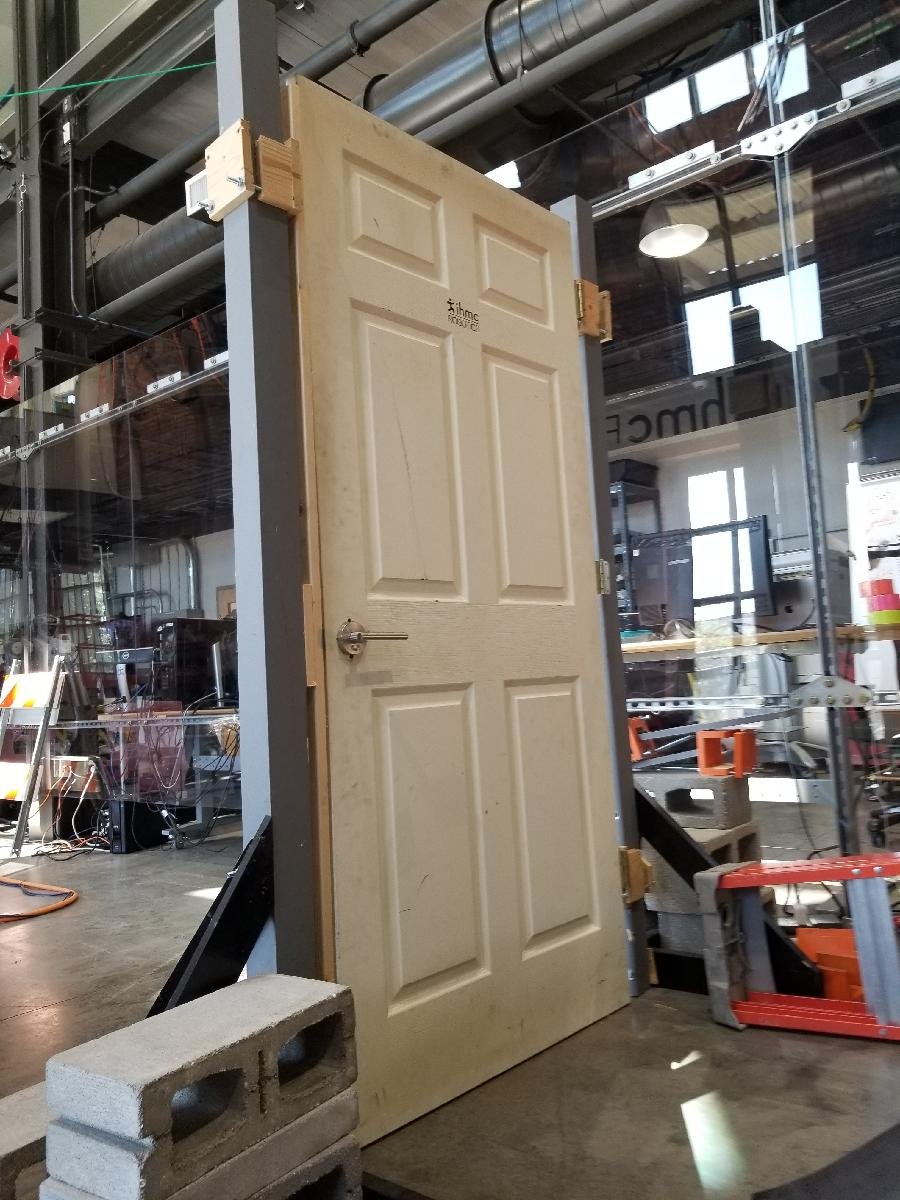door: (282, 71, 642, 1162)
doorHandle: (332, 616, 415, 666)
